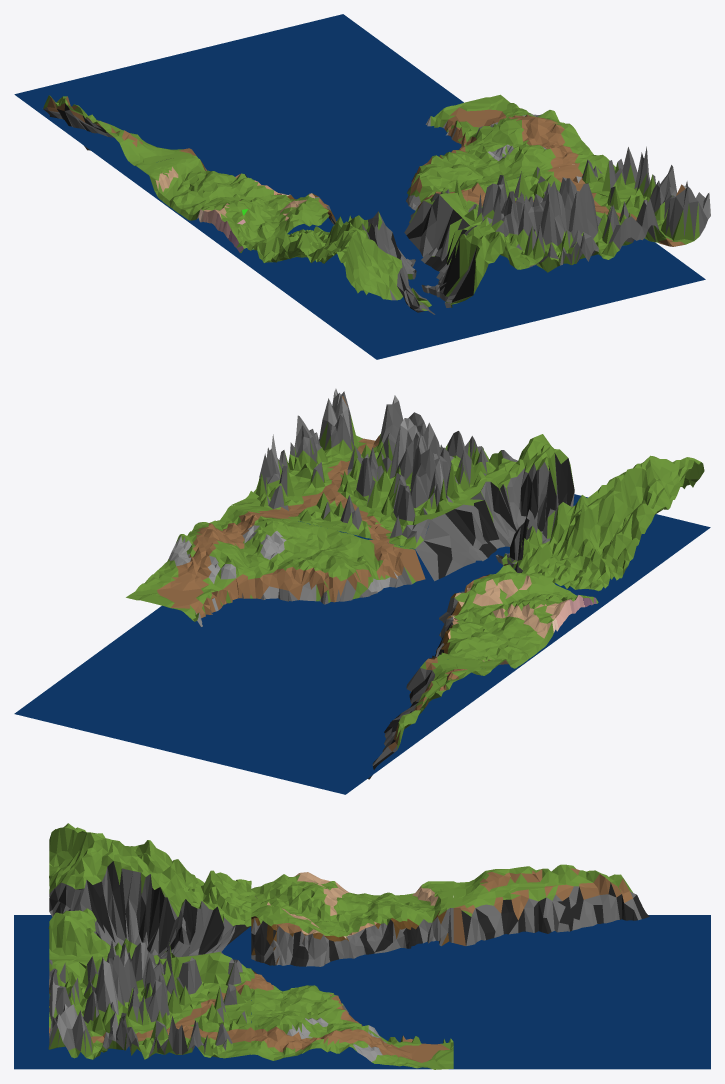
The model's file is mapTest.fbx.
The picture shows the model from 3 angles, top to bottom: view 1: azimuth 30°, elevation 25°; view 2: azimuth 150°, elevation 25°; view 3: azimuth 270°, elevation 25°; orthographic projection. The views are drawn at different scales.
Parts seen in each view (by area): view 1: Plane.005, Plane.003, Plane.002, Plane, Plane.001, Plane.004; view 2: Plane.005, Plane.002, Plane.003, Plane, Plane.001, Plane.004; view 3: Plane.005, Plane.002, Plane.003, Plane.001, Plane.004, Plane.
Part boxes in pixels (<box>): Plane.005: <box>14,14,705,359</box>; Plane.003: <box>424,146,710,272</box>; Plane.002: <box>241,194,528,314</box>; Plane: <box>406,94,604,223</box>; Plane.001: <box>136,153,336,252</box>; Plane.004: <box>43,95,206,170</box>; Plane.005: <box>14,494,710,794</box>; Plane.002: <box>415,434,704,591</box>; Plane.003: <box>232,388,517,548</box>; Plane: <box>126,505,425,627</box>; Plane.001: <box>432,564,598,669</box>; Plane.004: <box>368,657,492,779</box>; Plane.005: <box>14,915,710,1069</box>; Plane.002: <box>48,823,251,959</box>; Plane.003: <box>48,938,252,1059</box>; Plane.001: <box>251,872,453,966</box>; Plane.004: <box>453,864,649,946</box>; Plane: <box>251,969,453,1069</box>.
Bounding box in the file's own units: 1608 × 543 × 2759.
